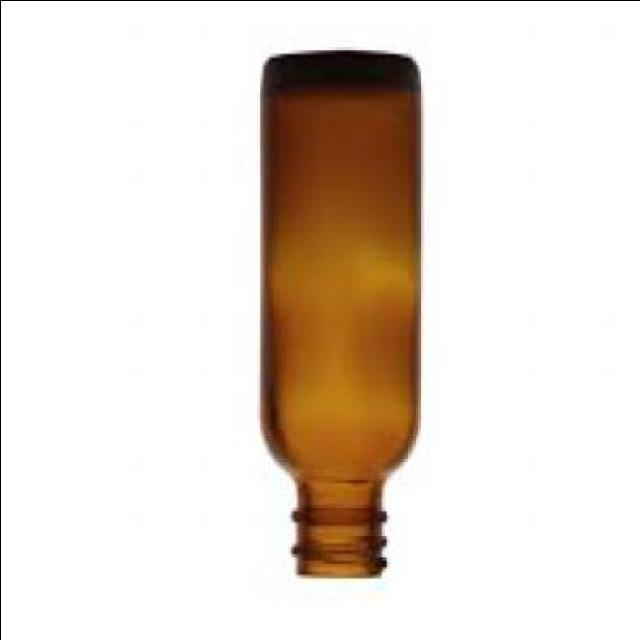kaca: (261, 52, 422, 578)
